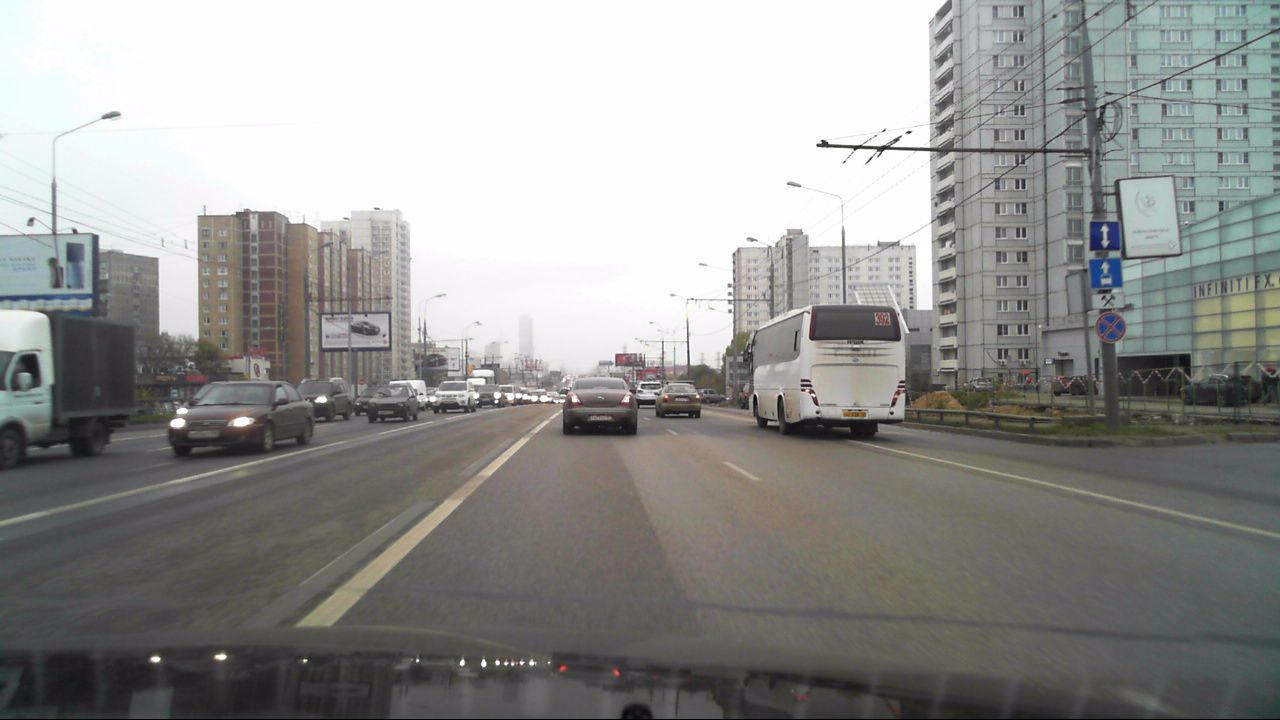No Parking: (1094, 312, 1126, 342)
